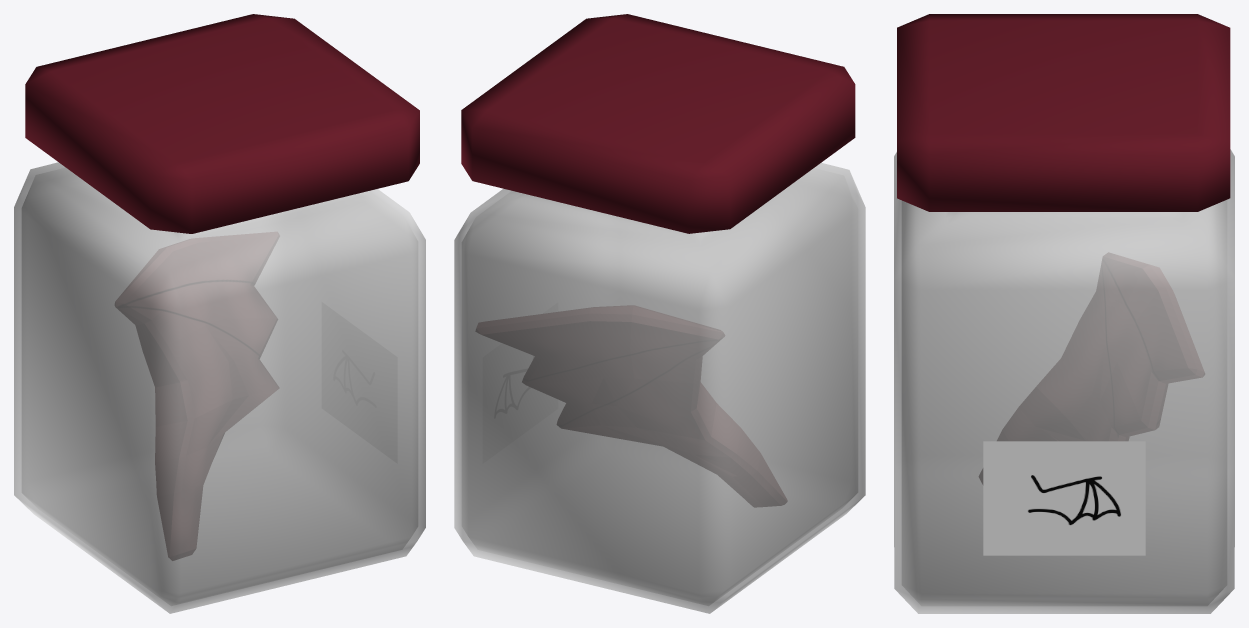
Rendered from Batwing.fbx.
The picture shows the model from 3 angles, left to right: view 1: azimuth 30°, elevation 25°; view 2: azimuth 150°, elevation 25°; view 3: azimuth 270°, elevation 25°; orthographic projection. The views are drawn at different scales.
Visible parts, largest first — view 1: Jar, Cap, BatWing; view 2: Jar, Cap, BatWing; view 3: Jar, Cap, BatWing, Label.
Boxes of the visible parts, <box> form: Jar: <box>14,162,425,613</box>; Cap: <box>25,14,419,233</box>; BatWing: <box>115,232,279,560</box>; Jar: <box>454,162,865,613</box>; Cap: <box>461,14,855,233</box>; BatWing: <box>476,305,787,507</box>; Jar: <box>894,149,1234,613</box>; Cap: <box>897,14,1230,211</box>; BatWing: <box>979,252,1204,483</box>; Label: <box>983,441,1145,555</box>.
Bounding box in the file's own units: 245 × 375 × 243.
4 materials, 2 textured.
